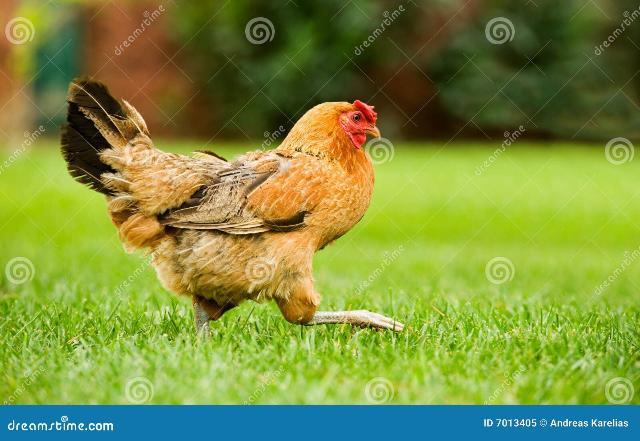Chicken: (61, 77, 406, 331)
